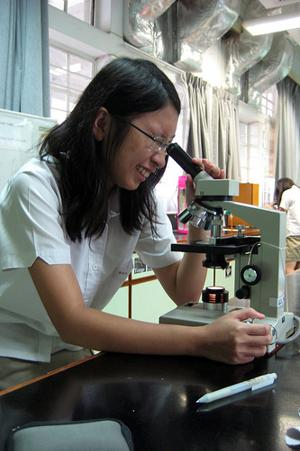person: (2, 55, 274, 368)
